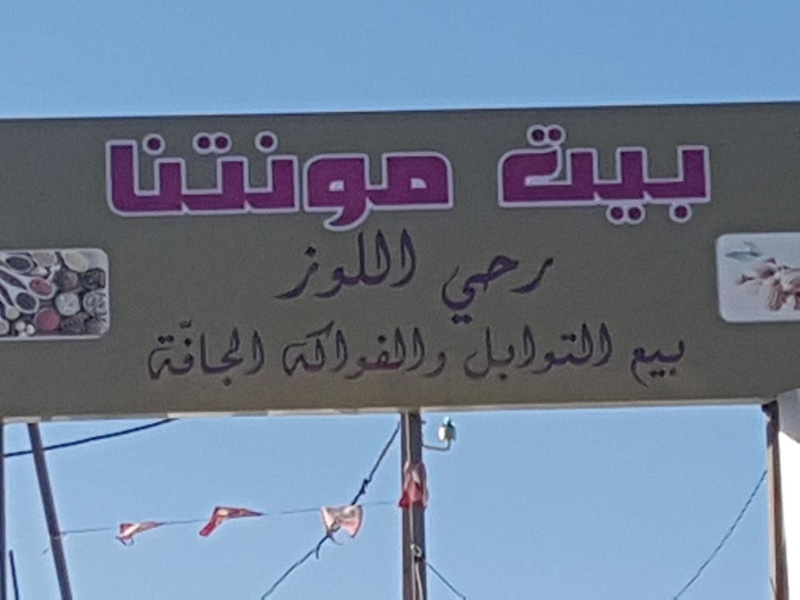text: (497, 122, 512, 229), (513, 122, 528, 229), (529, 122, 544, 229), (545, 122, 560, 229), (561, 122, 576, 229), (577, 122, 592, 229), (593, 122, 608, 229), (609, 122, 624, 229), (625, 122, 640, 229), (641, 122, 656, 229), (657, 122, 672, 229), (673, 122, 688, 229), (689, 122, 704, 229), (113, 129, 128, 233), (129, 129, 144, 233), (145, 129, 160, 233), (161, 129, 176, 233), (177, 129, 192, 233), (193, 129, 208, 233), (209, 129, 224, 233), (225, 129, 240, 233), (241, 129, 256, 233), (257, 129, 272, 233), (273, 129, 288, 233), (289, 129, 304, 233), (305, 129, 320, 233), (321, 129, 336, 233), (337, 129, 352, 233), (353, 129, 368, 233), (369, 129, 384, 233), (385, 129, 400, 233), (401, 129, 416, 233), (417, 129, 432, 233), (433, 129, 448, 233), (545, 246, 561, 334), (449, 246, 464, 334), (465, 246, 480, 334), (481, 246, 496, 334), (497, 246, 512, 334), (513, 246, 528, 334), (529, 246, 544, 334), (273, 229, 288, 301), (289, 229, 304, 301), (305, 229, 320, 301), (321, 229, 336, 301), (337, 229, 352, 301), (353, 229, 368, 301), (369, 229, 384, 301), (385, 229, 400, 301), (401, 229, 416, 301), (161, 317, 176, 388), (177, 317, 192, 388), (193, 317, 208, 388), (209, 317, 224, 388), (225, 317, 240, 388), (241, 317, 256, 388), (436, 246, 448, 334), (705, 122, 714, 229), (103, 129, 112, 233), (465, 322, 480, 384), (481, 322, 496, 384), (497, 322, 512, 384), (513, 322, 528, 384), (529, 322, 544, 384), (545, 322, 560, 384), (561, 322, 576, 384), (577, 322, 592, 384), (593, 322, 608, 384), (289, 319, 304, 381), (305, 319, 320, 381), (321, 319, 336, 381), (337, 319, 352, 381), (353, 319, 368, 381), (369, 319, 384, 381), (385, 319, 400, 381), (401, 319, 416, 381), (641, 338, 656, 390), (657, 338, 672, 390), (673, 338, 686, 390), (257, 317, 266, 388), (152, 317, 160, 388), (449, 129, 454, 233), (630, 338, 640, 390), (417, 319, 425, 381), (433, 350, 448, 379), (281, 319, 288, 381), (609, 322, 613, 384), (427, 350, 432, 379), (462, 322, 464, 384), (271, 229, 272, 301), (417, 229, 418, 301)
